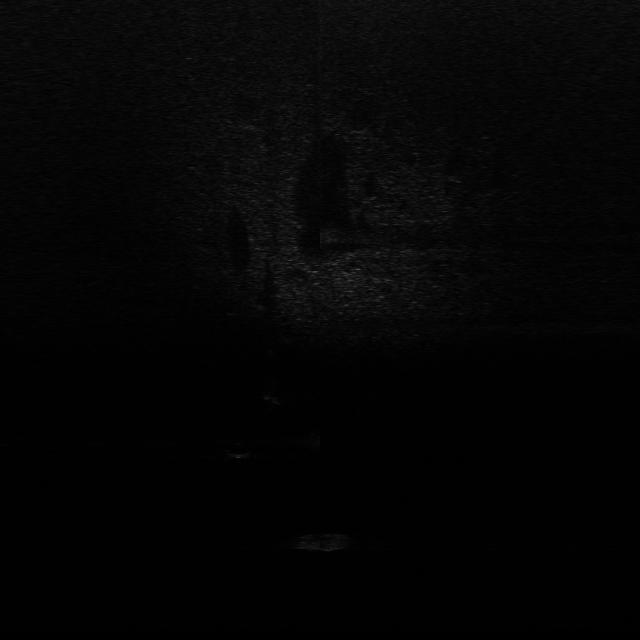ball: (222, 439, 254, 461)
circle cage: (286, 531, 353, 553)
human body: (248, 374, 288, 415)
